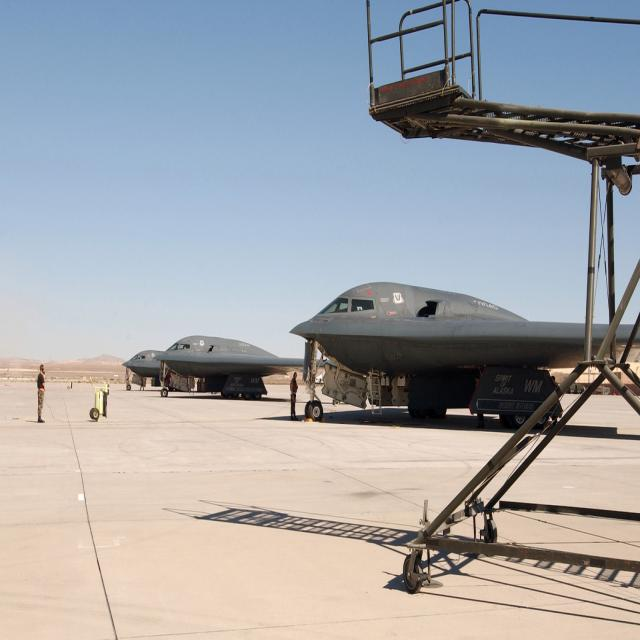MIL_Plane: (288, 287, 640, 423), (24, 335, 210, 401), (108, 350, 167, 391)
